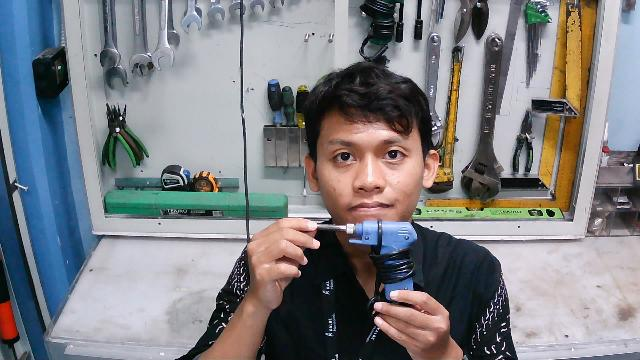solder_electrical: (304, 218, 426, 313)
